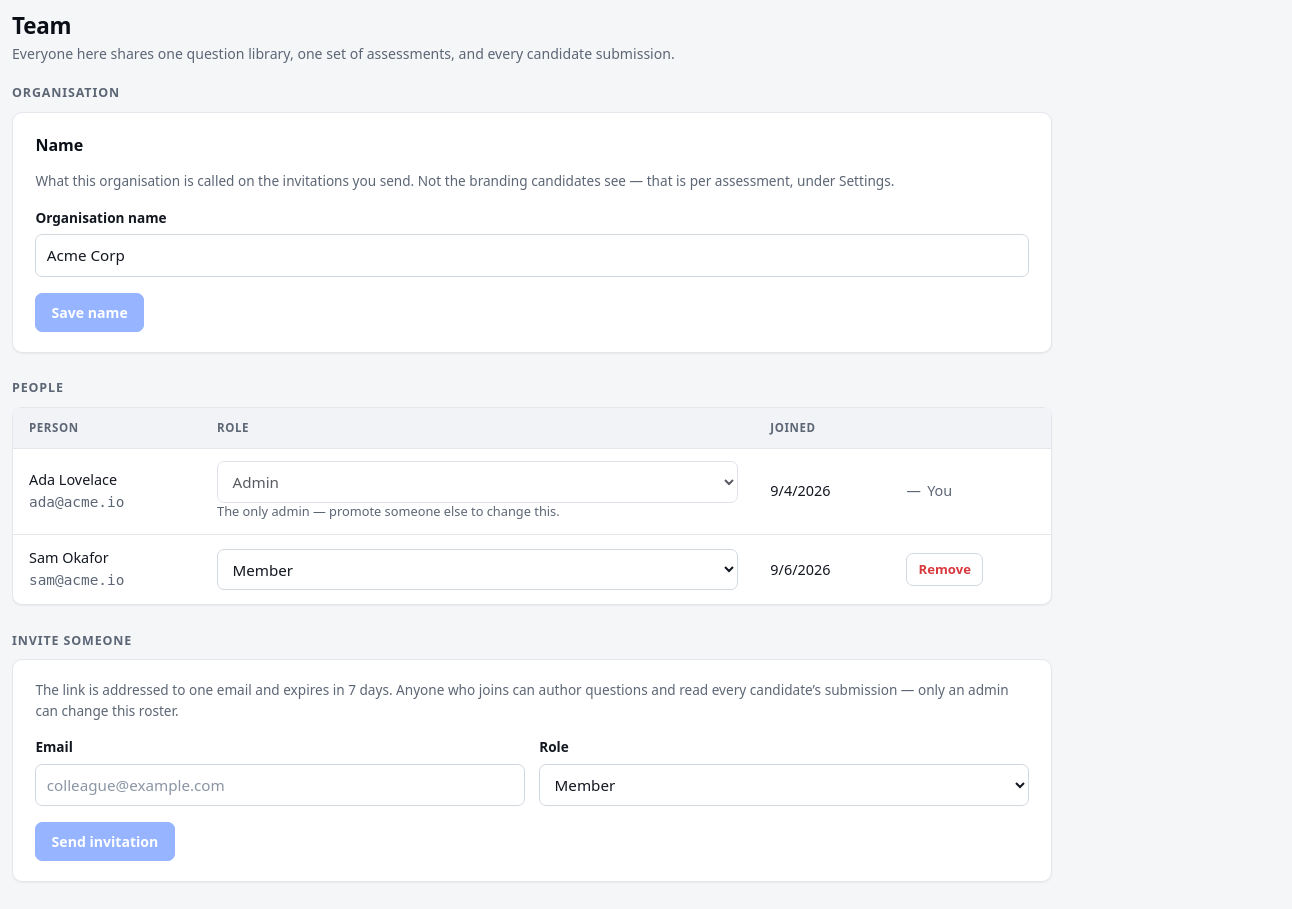
Scenario: TeamPage › surfaces a refused role change on the row it came from
Check: the text "Sam Okafor" is shown, box x1=29 y1=547 x2=109 y2=569
Select "Admin" in the dropdown named "Role for Sam Okafor" at (478, 570), box x1=217 y1=549 x2=738 y2=590
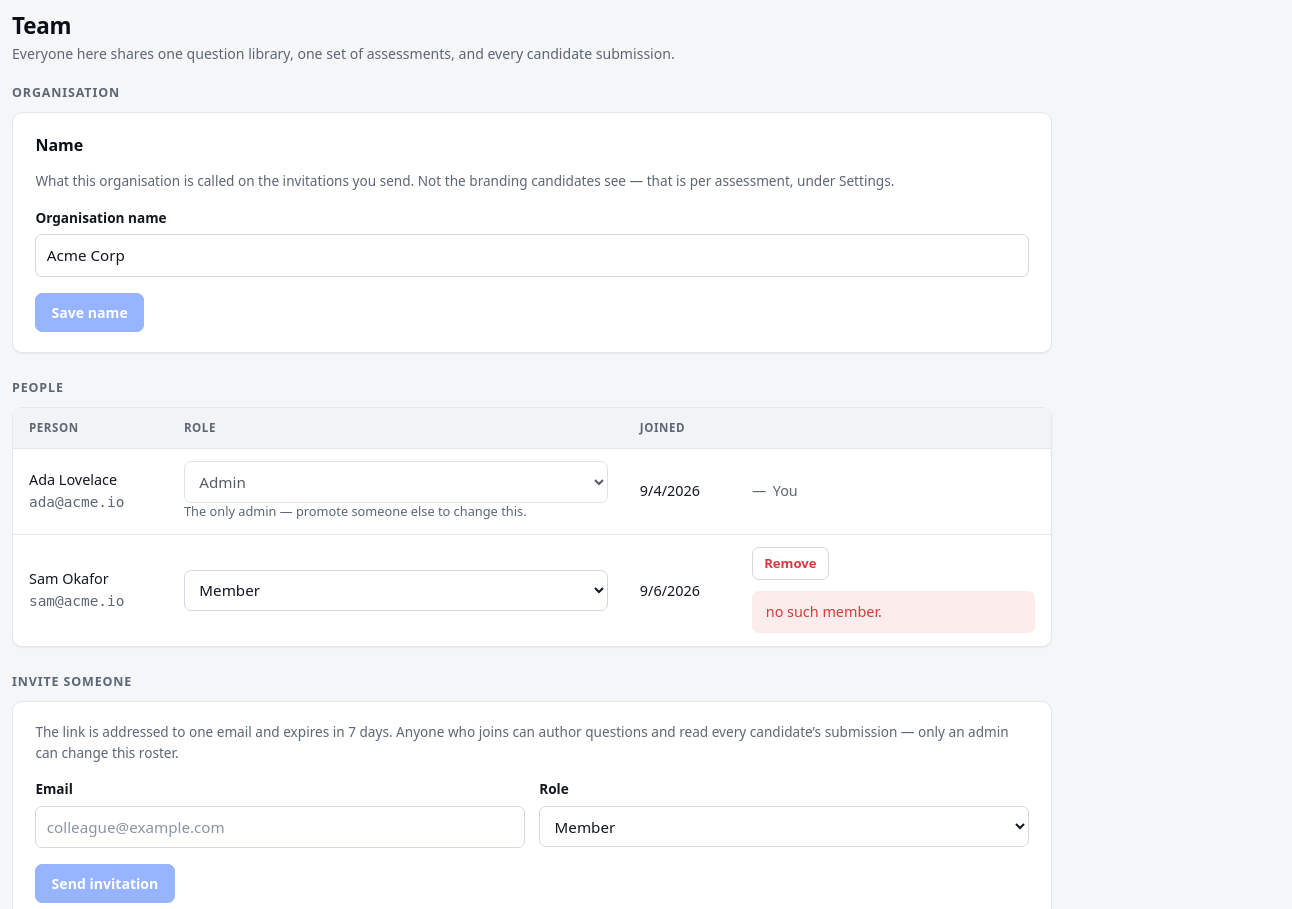
Check: the message reads "no such member.", box x1=766 y1=602 x2=882 y2=621
